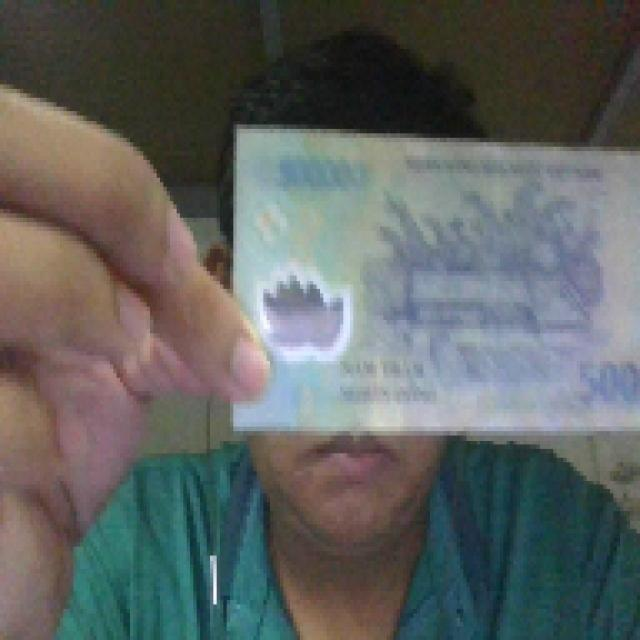500 000 VND: (223, 116, 637, 440)
